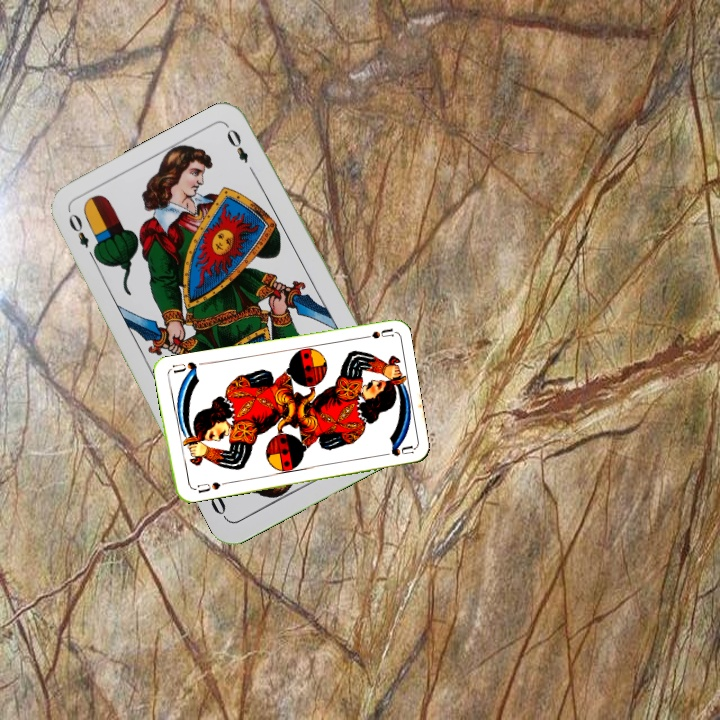EO: (64, 209, 100, 264)
SU: (354, 324, 395, 342), (193, 478, 228, 495)
